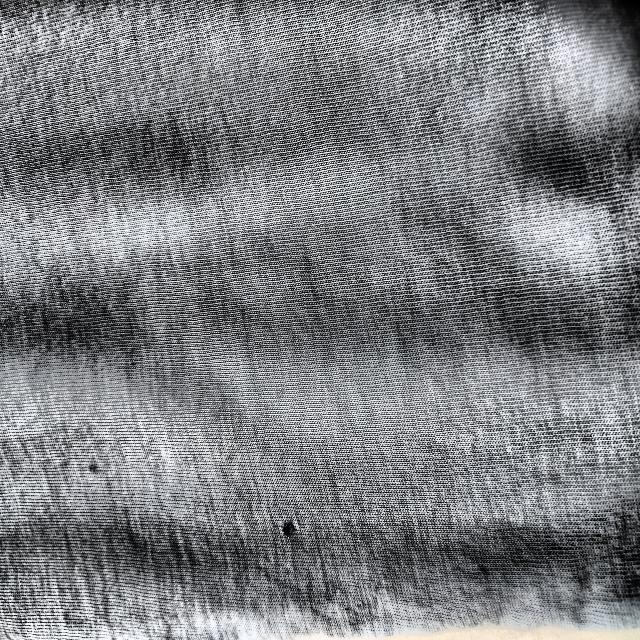Hole: (271, 515, 305, 548), (82, 455, 105, 479)
